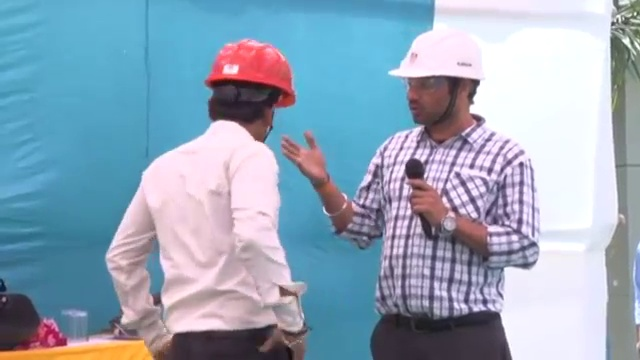helmet: (202, 38, 296, 107), (387, 28, 487, 83)
helmet_on: (386, 28, 489, 139), (200, 38, 296, 148)
person: (294, 28, 544, 360), (101, 39, 310, 360)
